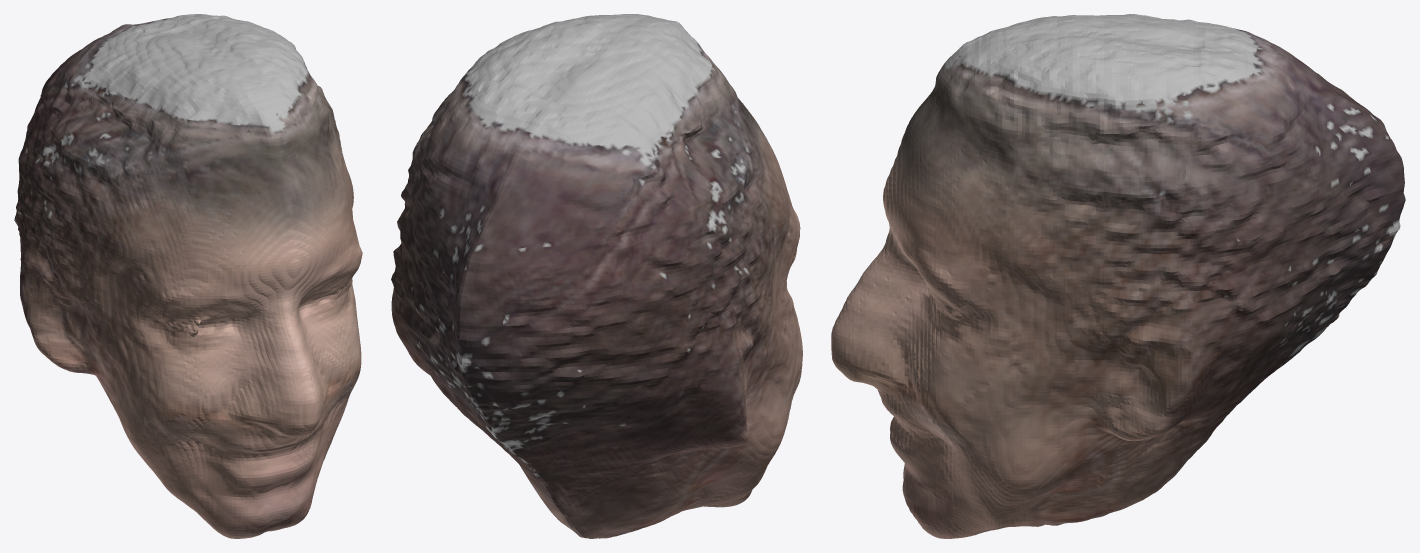
File: henny_head.glb
3 renders of one model, left to right at view 1: azimuth 30°, elevation 25°; view 2: azimuth 150°, elevation 25°; view 3: azimuth 270°, elevation 25°, orthographic. The views are drawn at different scales.
Visible parts, largest first — view 1: geometry_0; view 2: geometry_0; view 3: geometry_0.
Boxes of the visible parts, x1,y1,x2,y2 form: geometry_0: (14,14,362,538); geometry_0: (391,14,802,538); geometry_0: (831,14,1405,538).
Size of the model in its own units: 0.3194 by 0.445 by 0.4569.
